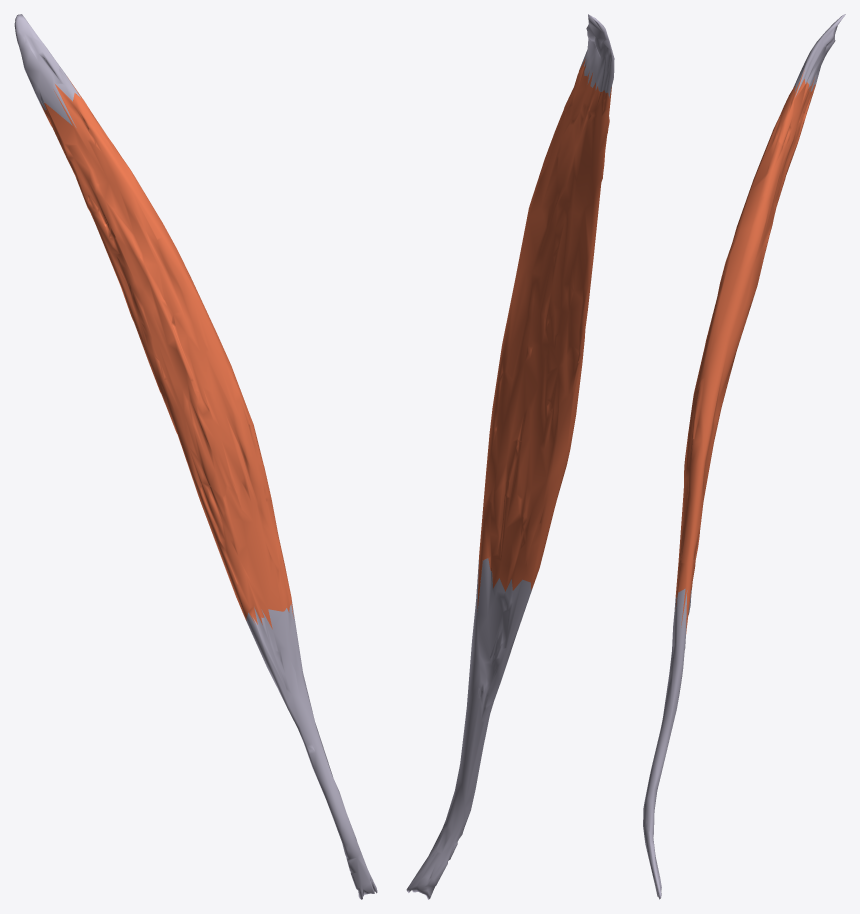
Rendered from Flexor_carpi_radialis.l_Generated_Mesh_From_X3D.737.glb.
3 renders of one model, left to right at view 1: azimuth 30°, elevation 25°; view 2: azimuth 150°, elevation 25°; view 3: azimuth 270°, elevation 25°, orthographic. The views are drawn at different scales.
Parts seen in each view (by area): view 1: Flexor_carpi_radialis.l_Generated_Mesh_From_X3D.737; view 2: Flexor_carpi_radialis.l_Generated_Mesh_From_X3D.737; view 3: Flexor_carpi_radialis.l_Generated_Mesh_From_X3D.737.
Boxes of the visible parts, box(x1,y1,x2,y2) form: Flexor_carpi_radialis.l_Generated_Mesh_From_X3D.737: box(14, 14, 377, 899); Flexor_carpi_radialis.l_Generated_Mesh_From_X3D.737: box(406, 14, 614, 899); Flexor_carpi_radialis.l_Generated_Mesh_From_X3D.737: box(643, 14, 845, 899).
Size of the model in its own units: 0.0907 by 0.2858 by 0.0677.
